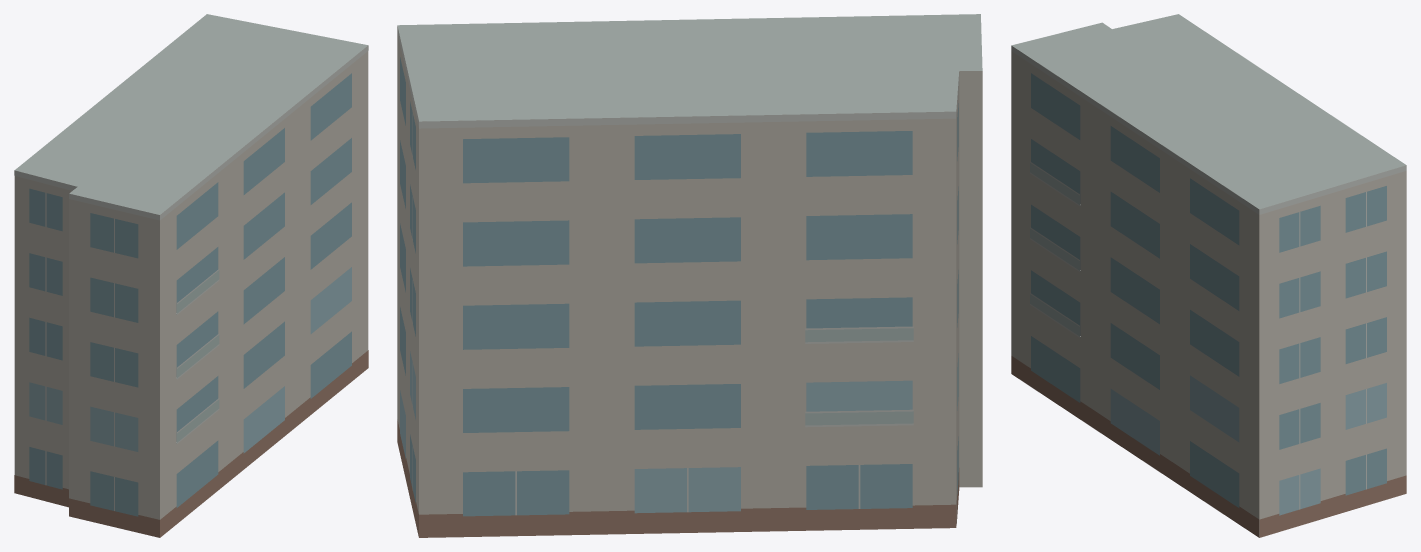
File: survey-upis-32779410.glb
The picture shows the model from 3 angles, left to right: view 1: azimuth 30°, elevation 25°; view 2: azimuth 150°, elevation 25°; view 3: azimuth 270°, elevation 25°; orthographic projection. The views are drawn at different scales.
Parts seen in each view (by area): view 1: survey-upis-32779410.tmp; view 2: survey-upis-32779410.tmp; view 3: survey-upis-32779410.tmp.
Part boxes in pixels (left/top/right/bottom): survey-upis-32779410.tmp: left=14, top=14, right=368, bottom=537; survey-upis-32779410.tmp: left=397, top=14, right=982, bottom=537; survey-upis-32779410.tmp: left=1011, top=14, right=1406, bottom=537.
Bounding box in the file's own units: 18.51 × 14.5 × 15.83.
